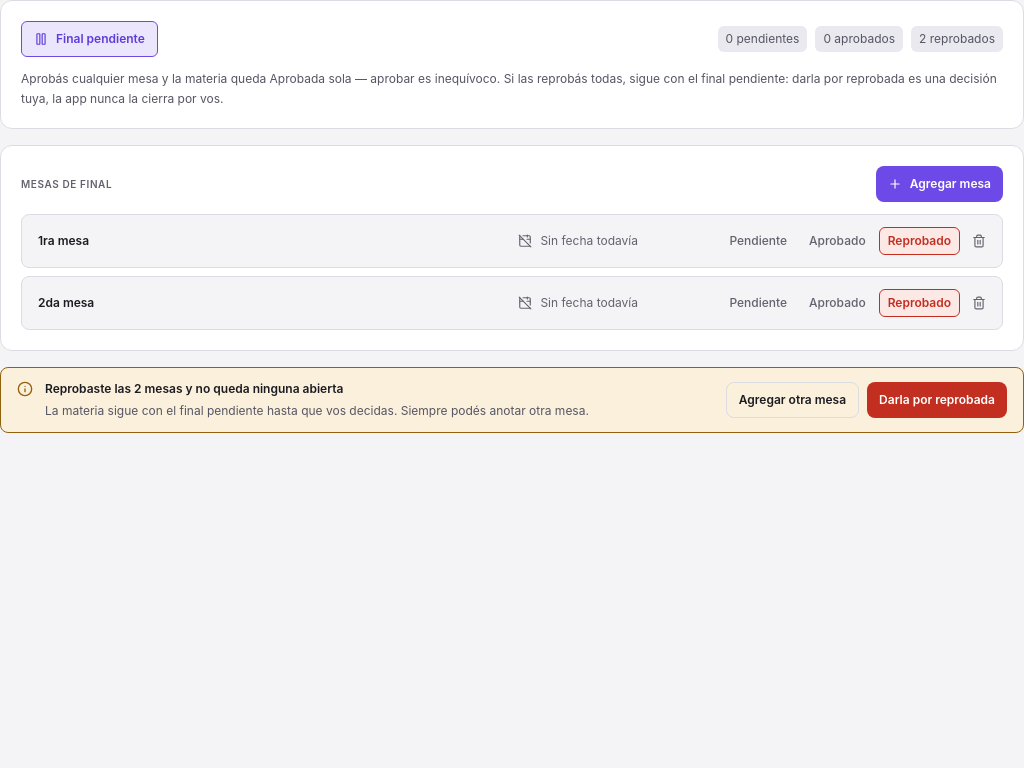
Test case: FinalesContainer › says why the mesa could not be created and keeps the modal open
Click the button "Agregar mesa": (939, 184) [876,166,1003,202]
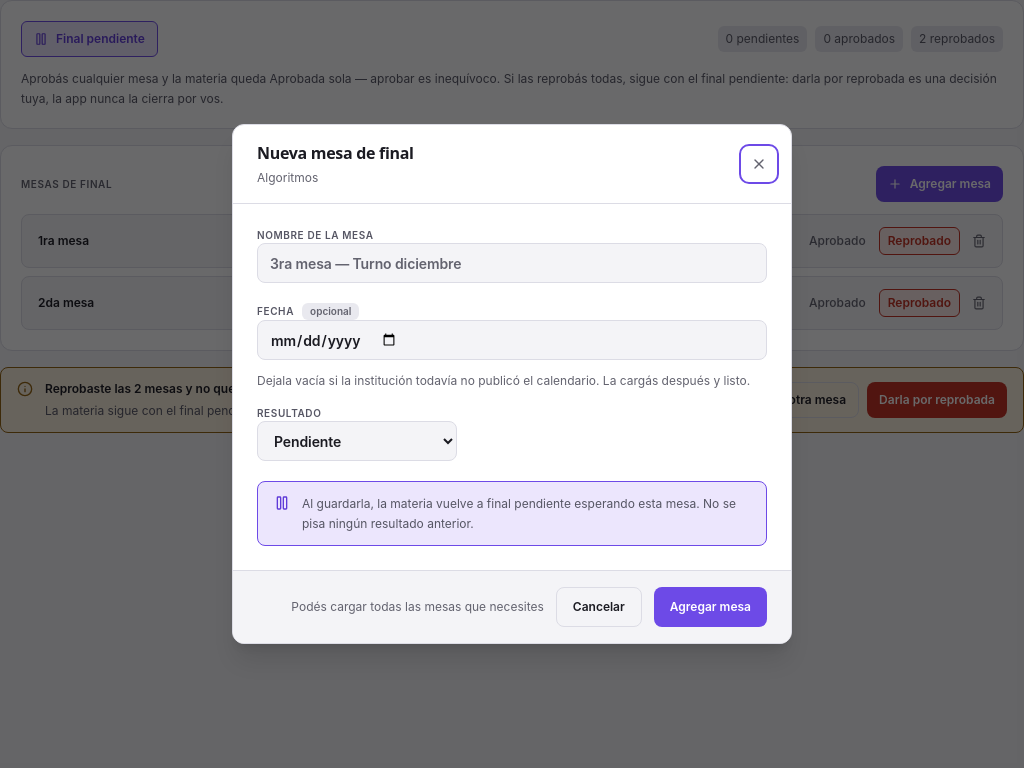
In the field labelled "NOMBRE DE LA MESA": (512, 263) [257,243,767,283], type "3ra mesa"
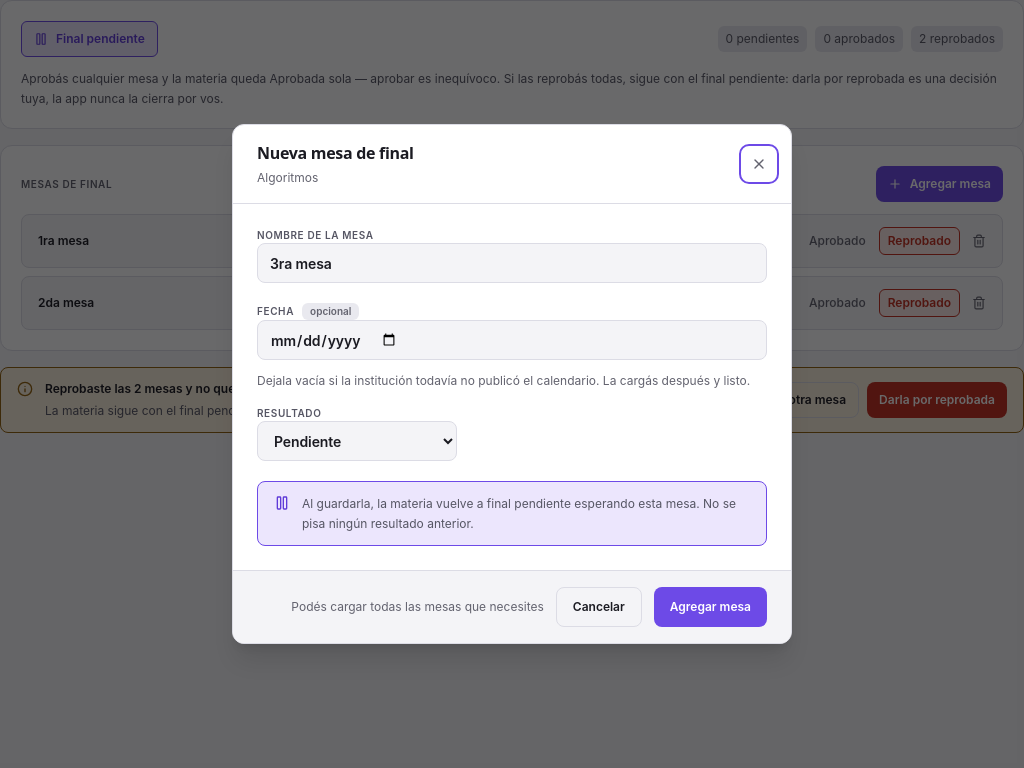
Click the button "Agregar mesa": (710, 607) [654,587,767,627]
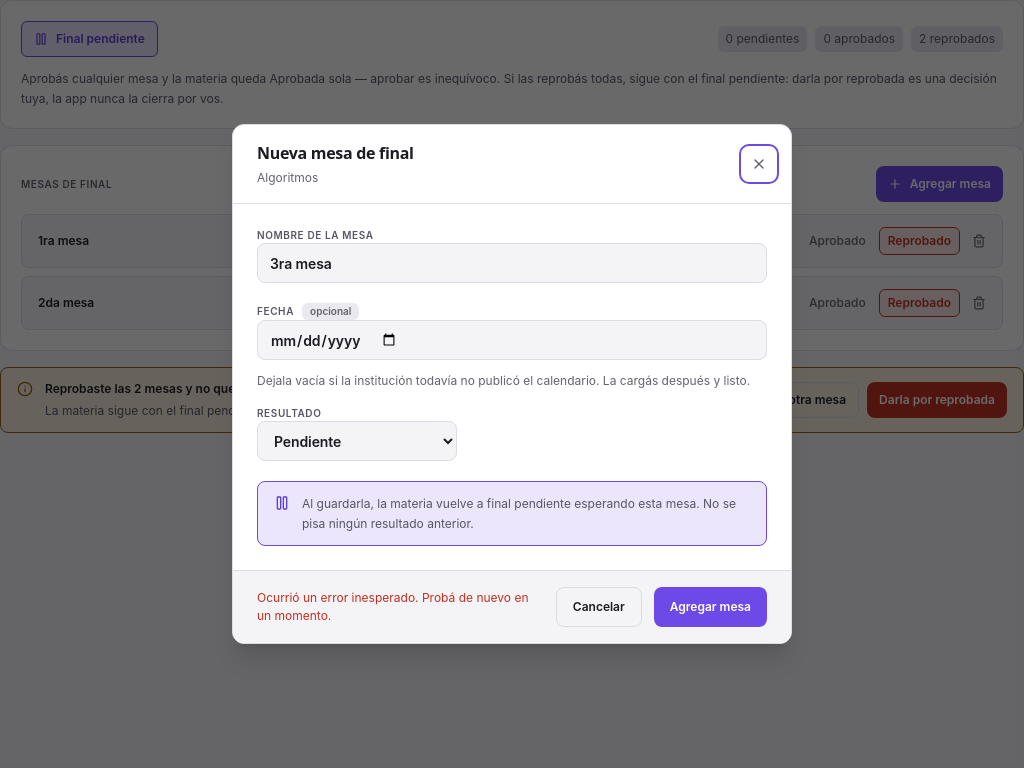
expect the dialog "Nueva mesa de final" is shown: met, box [232,124,792,644]
expect the text "Ocurrió un error inesperado. Probá de nuevo en un momento." is shown: met, box [257,589,544,625]
